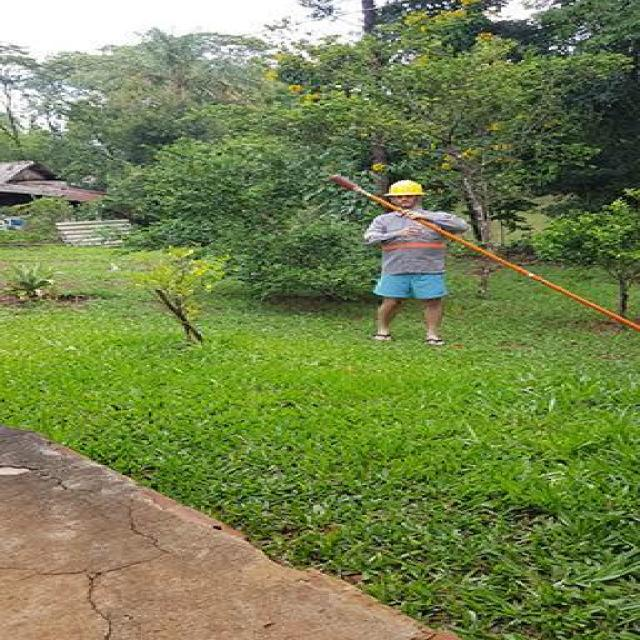helmet: (382, 179, 424, 210)
